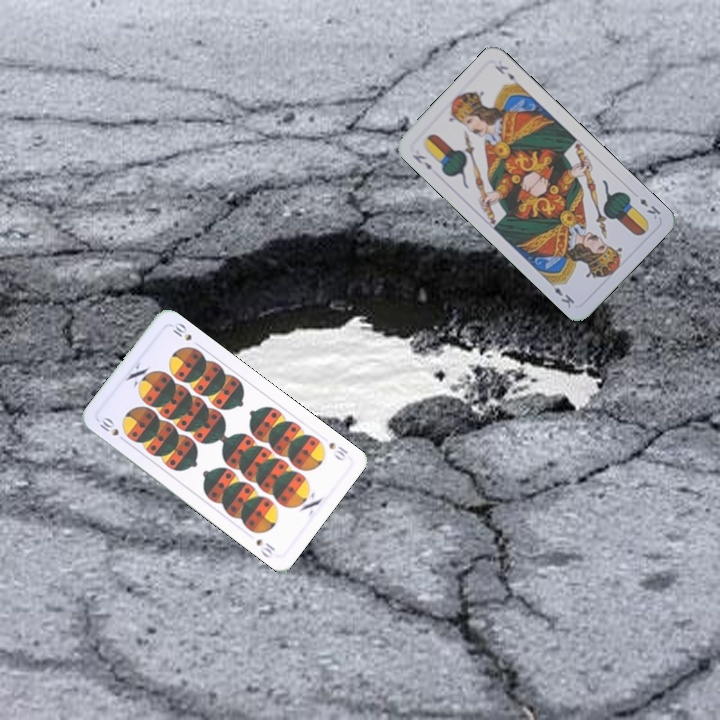EK: (635, 194, 664, 222), (408, 150, 434, 173)
S10: (95, 413, 122, 439), (325, 438, 350, 463)
